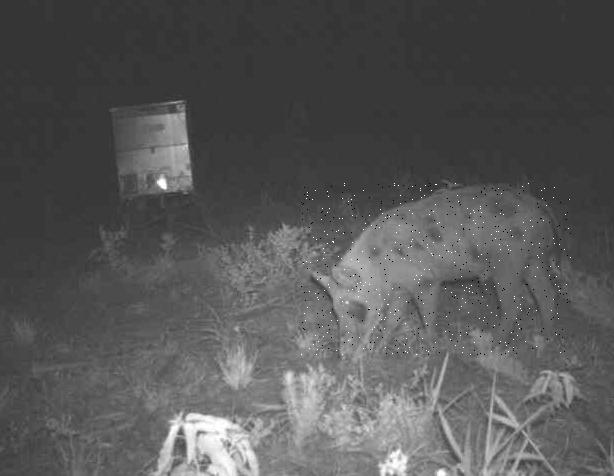Hog: (301, 184, 571, 356)
